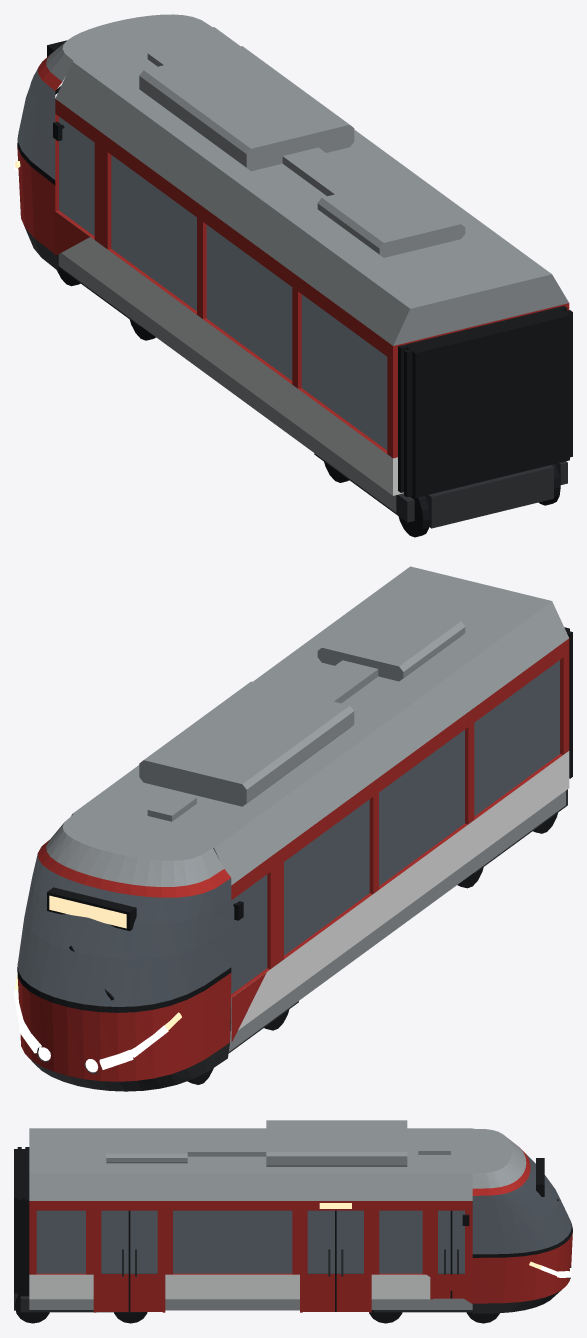
3 renders of one model, top to bottom at view 1: azimuth 30°, elevation 25°; view 2: azimuth 150°, elevation 25°; view 3: azimuth 270°, elevation 25°, orthographic. The views are drawn at different scales.
Parts seen in each view (by area): view 1: 15t-a; view 2: 15t-a; view 3: 15t-a.
Part boxes in pixels (x1,y1,x2,y2): 15t-a: (14, 14, 572, 537); 15t-a: (14, 566, 572, 1091); 15t-a: (14, 1120, 572, 1323).
Bounding box in the file's own units: 2.59 × 3.36 × 10.3.
